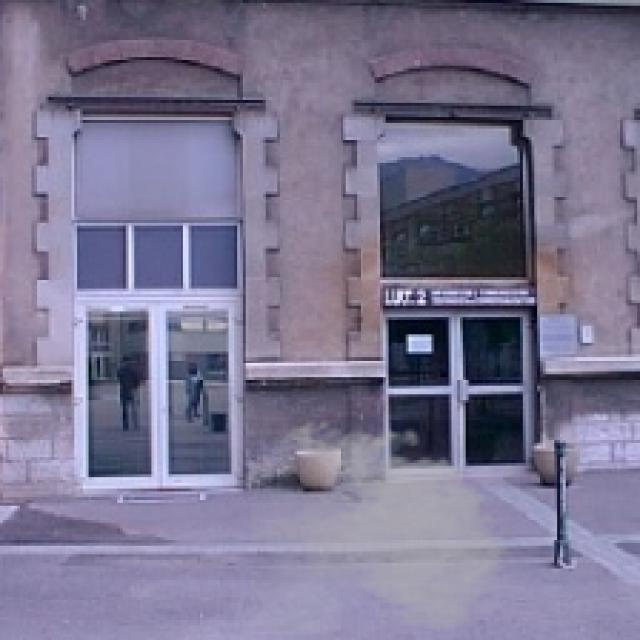smoke: (251, 414, 523, 637)
